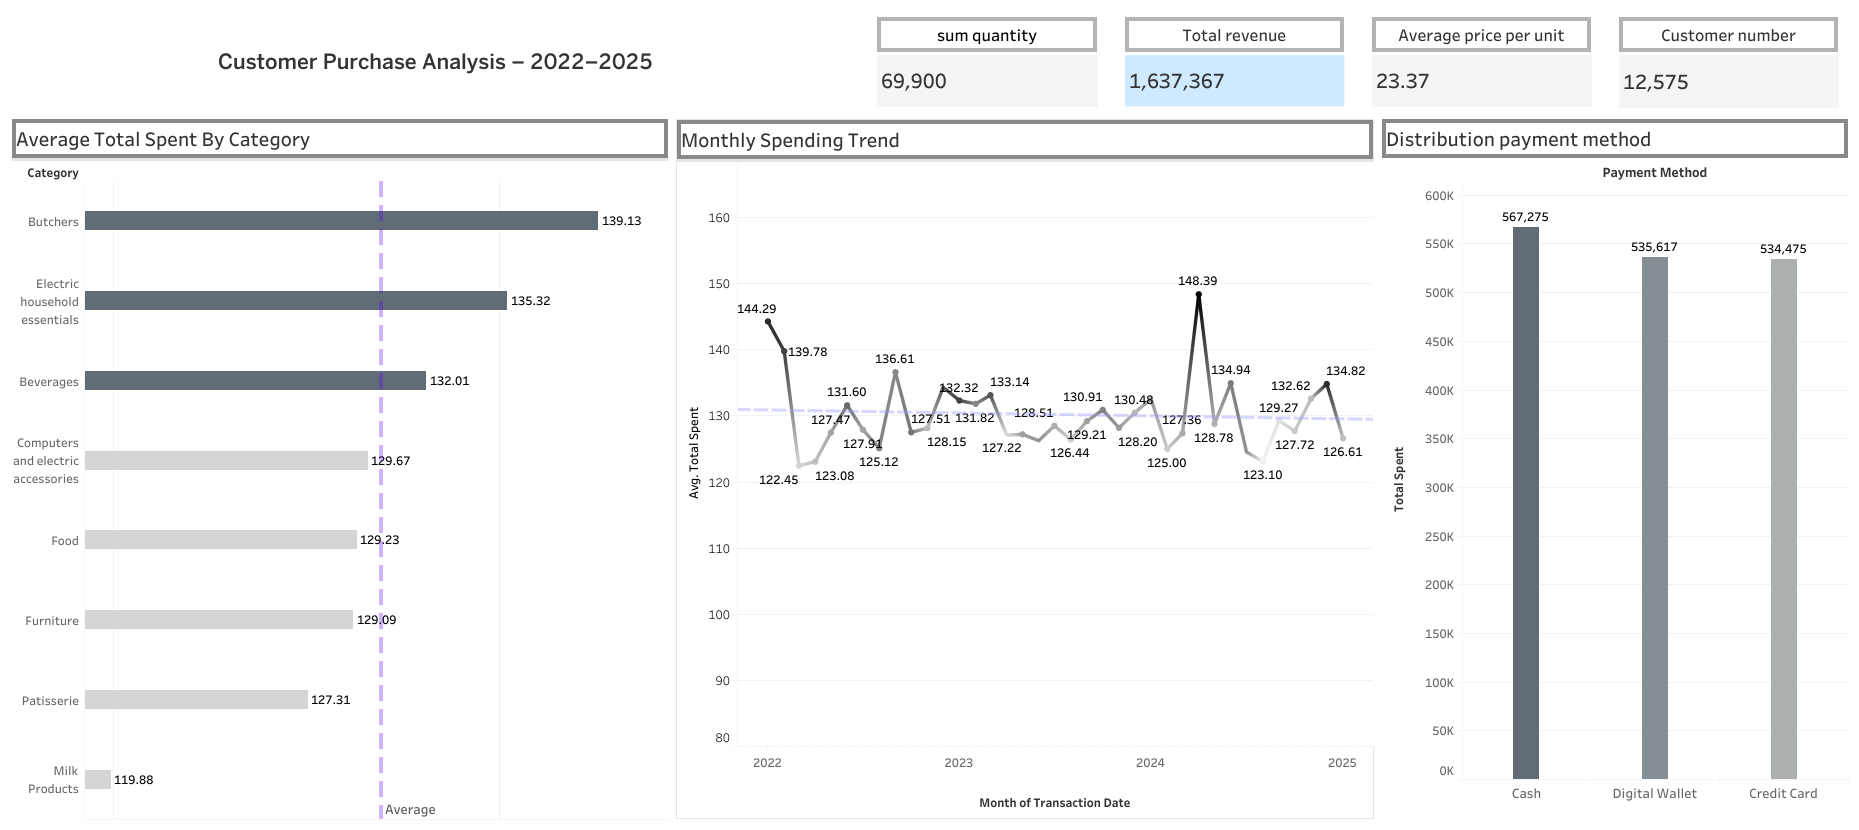

The page's visual inventory and layout, read from the dashboard file:
{"tool":"tableau","page":{"name":"Customer Purchase Analysis – 2022–2025","canvas":[1000,1000],"units":"permille","ordinal":0},"visuals":[{"type":"text","box":[4.8,10,398.9,128.6]},{"type":"worksheet","title":"sum quantity","mark":"Automatic","box":[403.7,10,148.3,128.6]},{"type":"worksheet","title":"Total revenue","mark":"Automatic","box":[552,10,147.7,128.6]},{"type":"worksheet","title":"Average price per unit","mark":"Automatic","box":[699.8,10,147.7,128.6]},{"type":"worksheet","title":"Customer number","mark":"Automatic","box":[847.5,10,147.7,128.6]},{"type":"worksheet","title":"Average Total Spent By Category ","mark":"Automatic","rows":["Category"],"cols":["Total Spent"],"box":[4.8,138.6,356.6,851.5]},{"type":"worksheet","title":"Monthly Spending Trend","mark":"Automatic","rows":["Total Spent"],"cols":["Transaction Date"],"box":[361.4,138.6,379.1,851.5]},{"type":"worksheet","title":"Distribution payment method","mark":"Automatic","rows":["Total Spent"],"cols":["Payment Method"],"box":[740.4,138.6,254.8,851.5]}]}

Visuals, with their boxes on the dashboard's canvas, which has no fixed pixel size, in thousandths of its width and height (x1, y1, x2, y2). These are canvas units, not pixel positions in the 1859x830 screenshot, which may show the page scaled, cropped or inside an application window:
text: crop(5, 10, 404, 139)
"sum quantity" worksheet: crop(404, 10, 552, 139)
"Total revenue" worksheet: crop(552, 10, 700, 139)
"Average price per unit" worksheet: crop(700, 10, 848, 139)
"Customer number" worksheet: crop(848, 10, 995, 139)
"Average Total Spent By Category " worksheet: crop(5, 139, 361, 990)
"Monthly Spending Trend" worksheet: crop(361, 139, 740, 990)
"Distribution payment method" worksheet: crop(740, 139, 995, 990)
